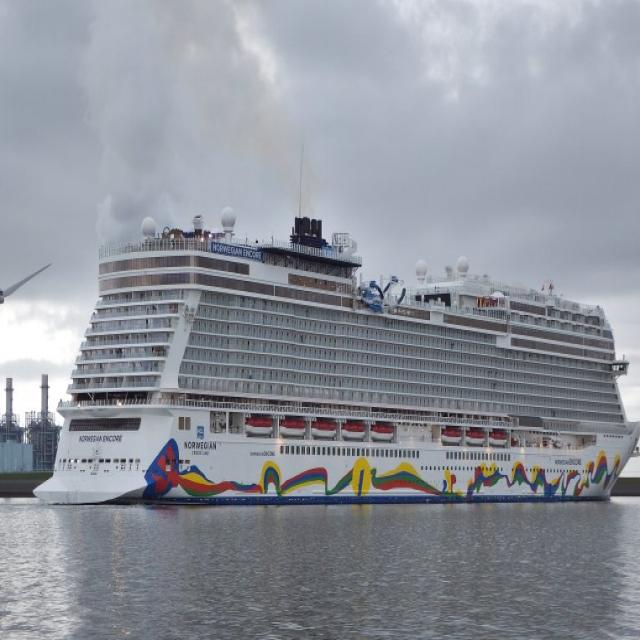cruises: (30, 215, 640, 520)
